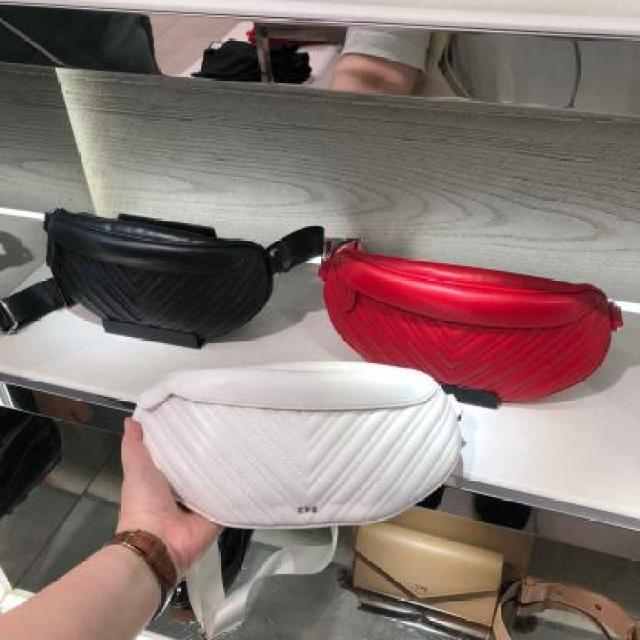Bag: (95, 343, 500, 563), (0, 152, 331, 382), (306, 207, 640, 430), (338, 492, 518, 640)
